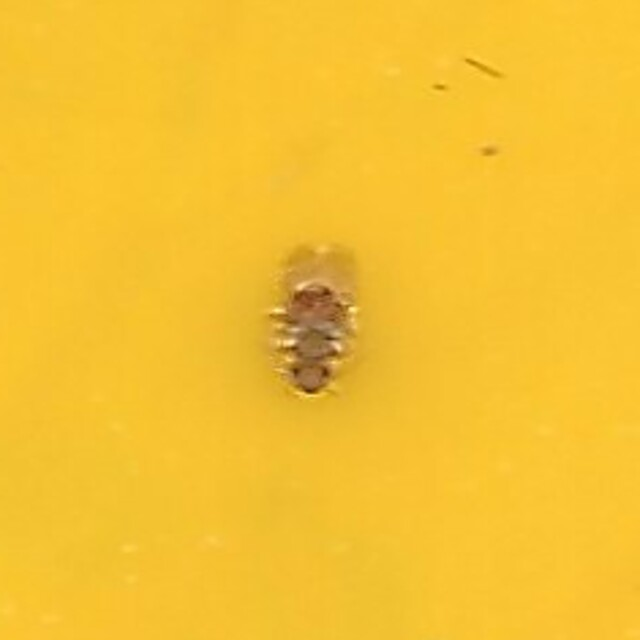Psocoptera: (272, 236, 368, 404)
